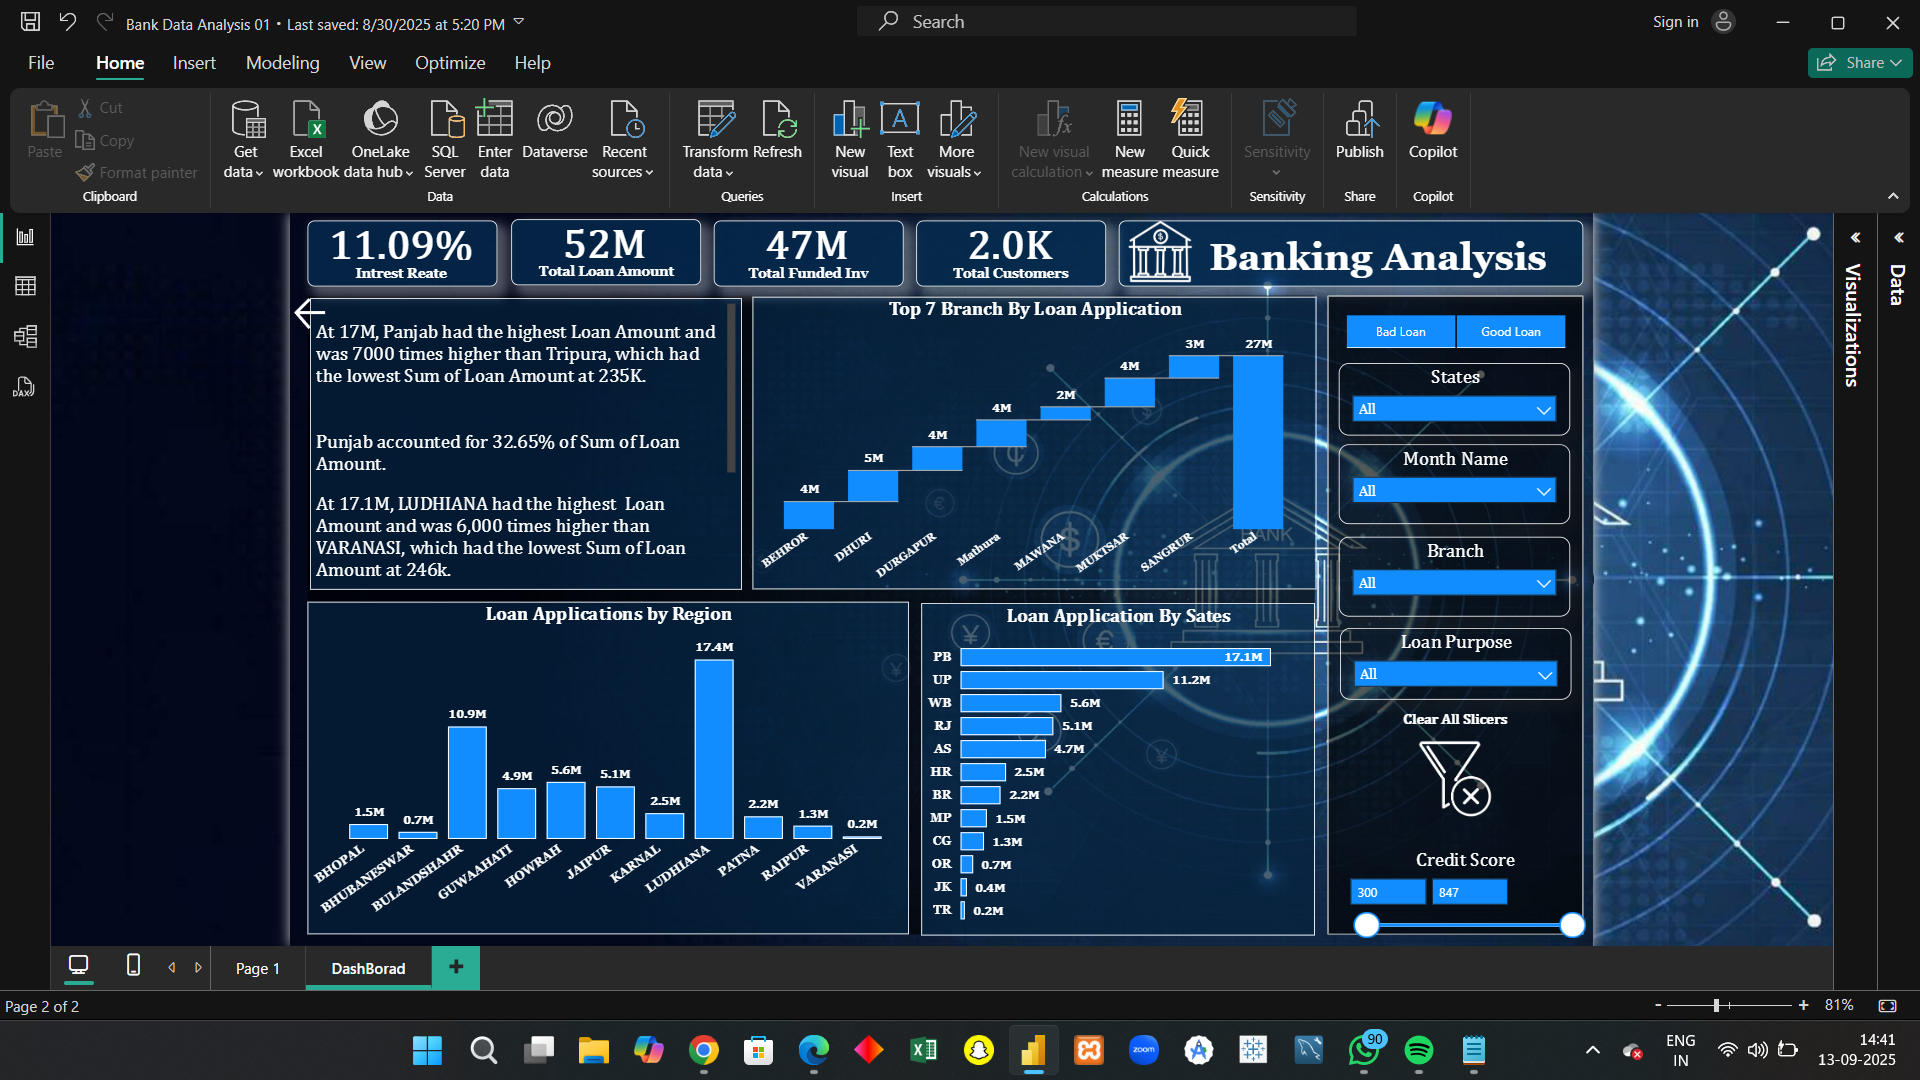

The page's visual inventory and layout, read from the dashboard file:
{"tool":"powerbi","page":{"name":"DashBorad","canvas":[1280,720],"ordinal":1},"visuals":[{"type":"shape","box":[813.5,7.2,456.2,65],"z":0},{"type":"shape","box":[190,193.8,60,111.2],"z":0,"group":"g1"},{"type":"shape","box":[17.5,80,405,292.5],"z":1000,"group":"g1"},{"type":"shape","box":[17.5,81.2,988.8,627.5],"z":1000},{"type":"group","id":"g1","title":"Good Loan Chart","box":[17.5,80,405,292.5],"z":2000},{"type":"donutChart","title":"Good Loan VS Bad Loan ","fields":{"Category":["Table1.Good Vs Bad Loan"],"Y":["Sum(Table1.Loan Amount)"]},"box":[17.5,81.2,405,291.2],"z":2000,"group":"g1"},{"type":"card","fields":{"Values":["Sum(Table1.Loan Amount)"]},"box":[155,202.5,135,81.2],"z":3000,"group":"g1"},{"type":"areaChart","title":"Month Wise Loan Distribution","fields":{"Category":["Table1.Month Name"],"Y":["Sum(Table1.Loan Amount)"]},"box":[17.5,382.5,592.5,326.2],"z":3000},{"type":"barChart","title":"Loan Application  By Sates","fields":{"Category":["Table1.State Abbr"],"Y":["Sum(Table1.Loan Amount)"]},"box":[620,382.5,386.2,326.2],"z":4000},{"type":"columnChart","title":" Client Income Range Wise Loan Application","fields":{"Category":["Table1.Client Income Range"],"Y":["Sum(Table1.Loan Amount)"]},"box":[433.8,81.2,572.5,291.2],"z":5000},{"type":"shape","box":[1018.8,81.2,251.2,627.5],"z":6000},{"type":"slicer","title":"Month Name","fields":{"Values":["Table1.Month Name"]},"box":[1030,227.5,227.5,78.8],"z":7000},{"type":"slicer","title":"States","fields":{"Values":["Table1.State Abbr"]},"box":[1030,147.5,227.5,71.2],"z":8000},{"type":"slicer","fields":{"Values":["Table1.Good Vs Bad Loan"]},"box":[1011.2,93.8,265,46.2],"z":9000},{"type":"slicer","title":"Loan Purpose","fields":{"Values":["Table1.Purpose Category"]},"box":[1031.2,407.5,227.5,70],"z":10000},{"type":"slicer","title":"Branch","fields":{"Values":["Table1.Branch Name_x"]},"box":[1030,317.5,227.5,78.8],"z":11000},{"type":"slicer","title":"Credit Score","fields":{"Values":["Dim Client.Credit Score"]},"box":[1028.2,624.5,251.5,95.7],"z":12000},{"type":"shape","box":[17.5,7.5,186.2,65],"z":13000},{"type":"card","fields":{"Values":["Avg(Table1.Int Rate)"]},"box":[15,6.2,188.8,45],"z":14000},{"type":"textbox","box":[20,43.8,178.8,40],"z":15000},{"type":"shape","box":[217.3,6.2,186.2,65],"z":16000},{"type":"card","fields":{"Values":["Sum(Table1.Loan Amount)"]},"box":[214.8,5,188.8,45],"z":17000},{"type":"textbox","box":[239.5,42.5,163.8,40],"z":18000},{"type":"shape","box":[416,7.5,186.2,65],"z":19000},{"type":"card","fields":{"Values":["Sum(Table1.Funded Amount Inv)"]},"box":[413.5,6.2,188.8,45],"z":20000},{"type":"textbox","box":[427.5,43.8,163.8,40],"z":21000},{"type":"shape","box":[614.7,7.5,186.2,65],"z":22000},{"type":"card","fields":{"Values":["CountNonNull(Table1.Account ID)"]},"box":[612.2,6.2,188.8,45],"z":23000},{"type":"textbox","box":[626.1,43.8,163.8,40],"z":24000},{"type":"image","box":[813.5,0.9,80,72.5],"z":25000},{"type":"textbox","box":[873.5,17.2,388.8,62.5],"z":26000},{"type":"image","title":"Clear All Slicers","box":[1077.5,490,132.5,112.5],"z":27000},{"type":"image","title":"i for Good Loan","box":[378.8,82.5,43.8,40],"z":28000},{"type":"image","title":"i for income","box":[962.5,83.8,43.8,40],"z":29000},{"type":"image","title":"i for staes","box":[962.5,382.5,43.8,40],"z":30000},{"type":"image","title":"i for Month","box":[566.2,382.5,43.8,40],"z":31000}]}

Visuals, with their boxes on the page's 1280x720 design canvas (x1, y1, x2, y2). These are canvas units, not pixel positions in the 1920x1080 screenshot, which may show the page scaled, cropped or inside an application window:
shape: 814 7 1270 72
shape: 190 194 250 305
shape: 18 80 422 372
shape: 18 81 1006 709
"Good Loan Chart" group: 18 80 422 372
"Good Loan VS Bad Loan " donutChart: 18 81 422 372
card - Sum(Table1.Loan Amount): 155 202 290 284
"Month Wise Loan Distribution" areaChart: 18 382 610 709
"Loan Application  By Sates" barChart: 620 382 1006 709
" Client Income Range Wise Loan Application" columnChart: 434 81 1006 372
shape: 1019 81 1270 709
"Month Name" slicer: 1030 228 1258 306
"States" slicer: 1030 148 1258 219
slicer - Table1.Good Vs Bad Loan: 1011 94 1276 140
"Loan Purpose" slicer: 1031 408 1259 478
"Branch" slicer: 1030 318 1258 396
"Credit Score" slicer: 1028 624 1280 720
shape: 18 8 204 72
card - Avg(Table1.Int Rate): 15 6 204 51
textbox: 20 44 199 84
shape: 217 6 404 71
card - Sum(Table1.Loan Amount): 215 5 404 50
textbox: 240 42 403 82
shape: 416 8 602 72
card - Sum(Table1.Funded Amount Inv): 414 6 602 51
textbox: 428 44 591 84
shape: 615 8 801 72
card - CountNonNull(Table1.Account ID): 612 6 801 51
textbox: 626 44 790 84
image: 814 1 894 73
textbox: 874 17 1262 80
"Clear All Slicers" image: 1078 490 1210 602
"i for Good Loan" image: 379 82 423 122
"i for income" image: 962 84 1006 124
"i for staes" image: 962 382 1006 422
"i for Month" image: 566 382 610 422
